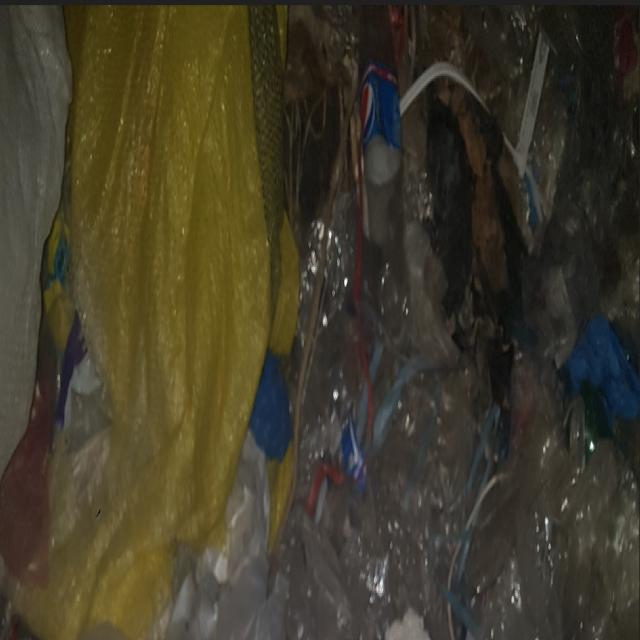general: (356, 3, 410, 333)
